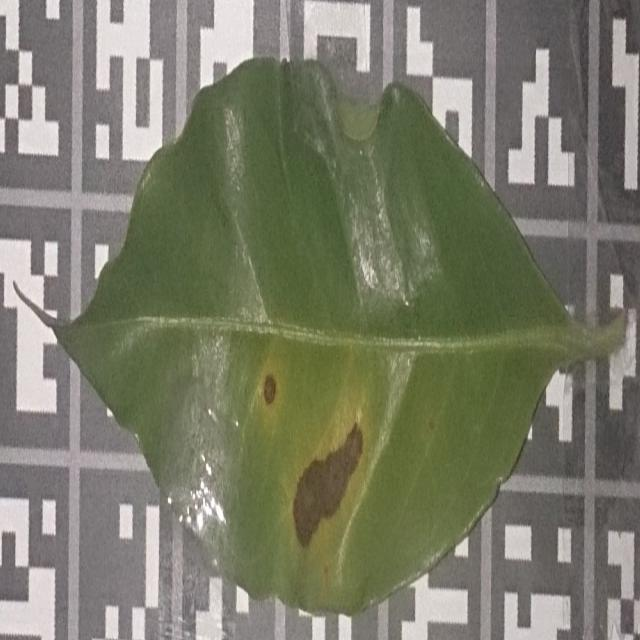Enfermedad-Mancha-de-hierro: (50, 58, 613, 618)
